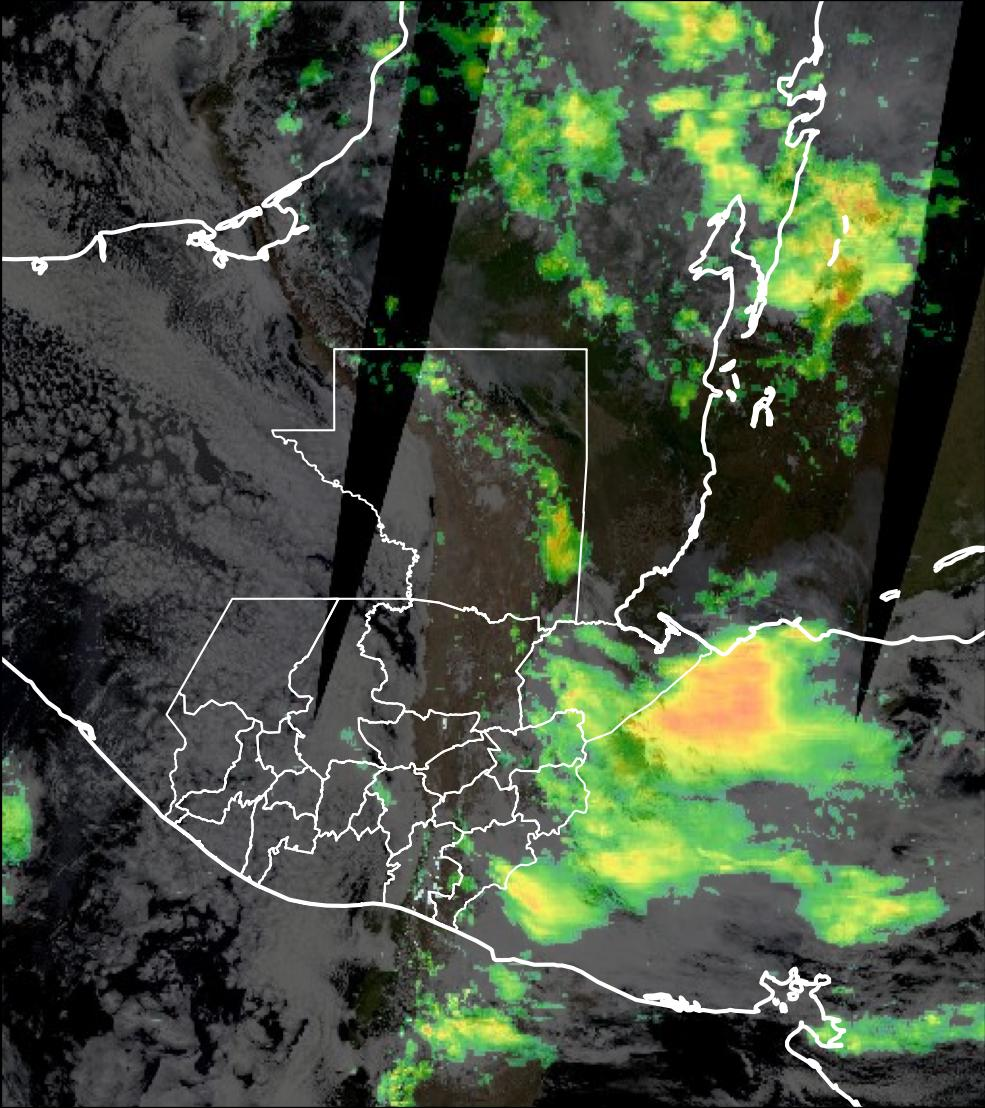precipitacion: (634, 641, 799, 778)
